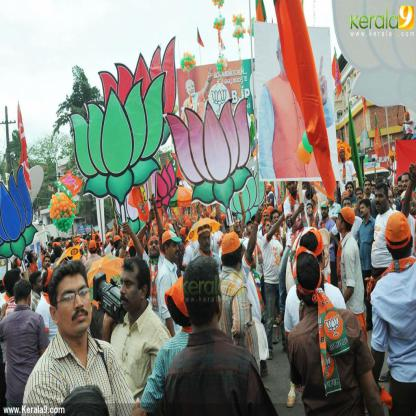face: (59, 281, 92, 331), (120, 271, 141, 309), (316, 240, 330, 268), (169, 239, 180, 260), (376, 192, 388, 211), (405, 196, 416, 214), (150, 238, 160, 257), (201, 235, 211, 252), (231, 216, 241, 232), (402, 178, 411, 192), (344, 201, 353, 215), (288, 180, 297, 194), (386, 194, 394, 208), (36, 277, 44, 291), (188, 82, 196, 96), (304, 176, 312, 189), (337, 214, 343, 231), (361, 205, 368, 218), (274, 214, 281, 227), (364, 183, 372, 194), (399, 183, 406, 195), (382, 181, 389, 193), (266, 222, 273, 234), (357, 192, 364, 203), (322, 208, 329, 219), (248, 222, 255, 233), (264, 213, 270, 225), (303, 185, 310, 195), (348, 185, 354, 196), (125, 249, 131, 260), (340, 150, 346, 160), (308, 205, 314, 215), (343, 194, 349, 203), (329, 192, 335, 201), (45, 259, 51, 268), (180, 233, 185, 243), (115, 241, 120, 249), (119, 239, 123, 248), (372, 187, 376, 195), (34, 252, 39, 258), (391, 156, 395, 162), (44, 247, 48, 253), (191, 233, 195, 239), (298, 213, 301, 221), (18, 259, 21, 266), (85, 246, 88, 252), (96, 240, 99, 246), (276, 249, 279, 255), (60, 242, 63, 248), (268, 188, 271, 193), (63, 242, 66, 247), (49, 247, 51, 253), (53, 239, 55, 242)
